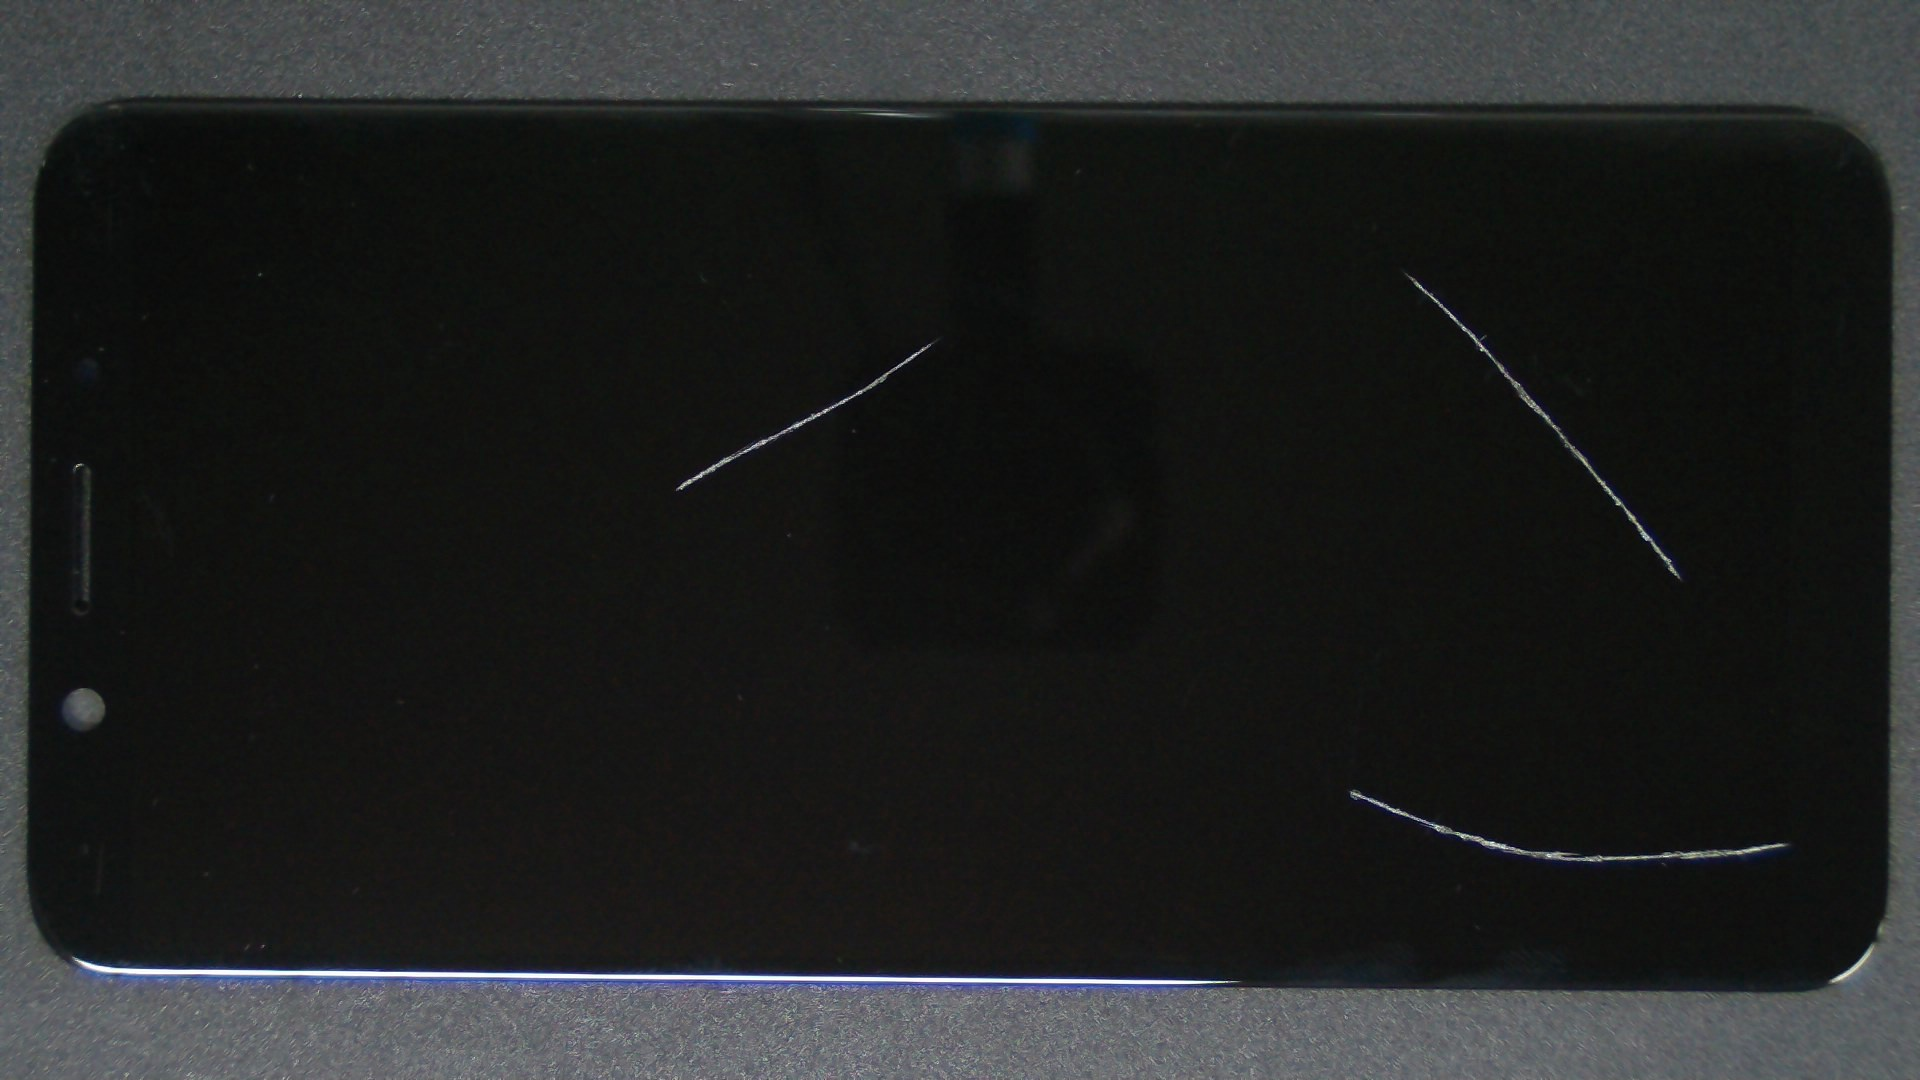oil: (676, 394, 1920, 1080), (703, 136, 1920, 410), (468, 169, 1403, 509)
